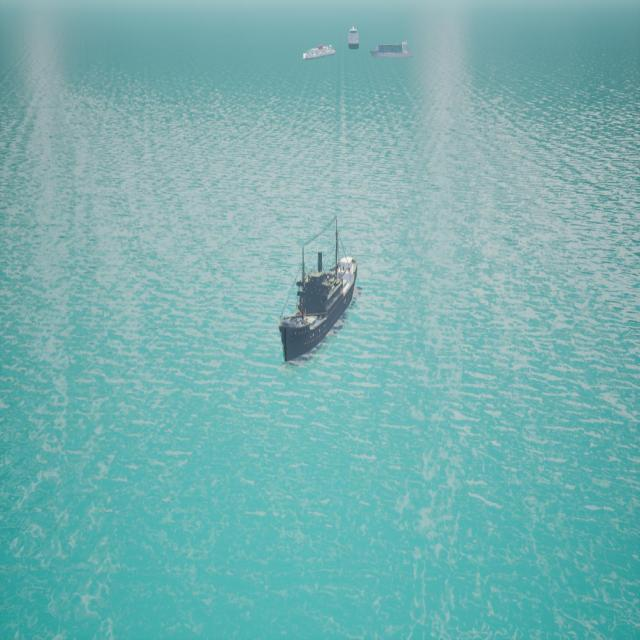fishing ship: (280, 252, 358, 367), (373, 41, 414, 58), (302, 46, 338, 62)
